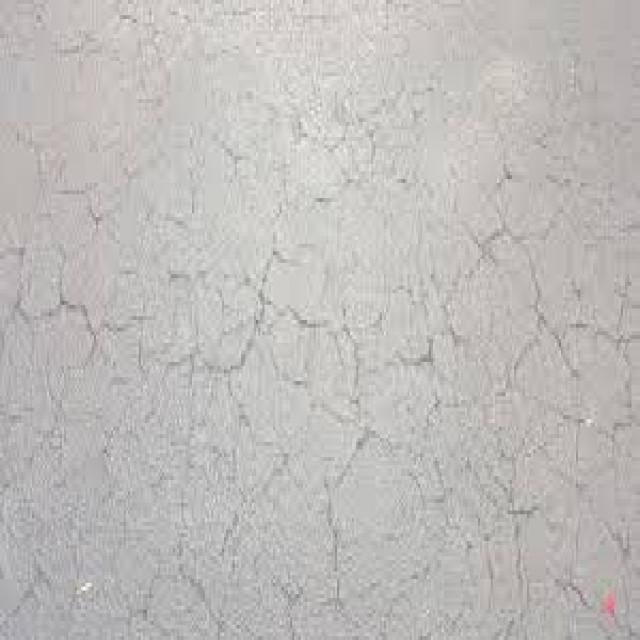crack: (7, 272, 228, 344), (231, 253, 327, 374)
